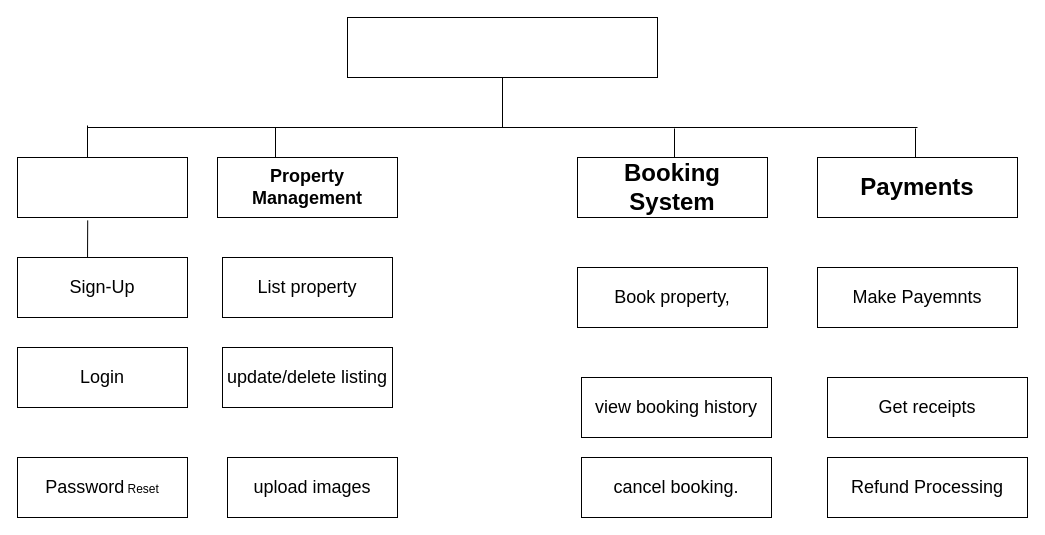
Image size: 1045x535. Some labels were removed from this diagram. Here are the shapes that lost their labels. From the top down, the centre of each, then its label:
At point (502, 47): "Features and Functionality".
At point (102, 187): "User Authentication".
